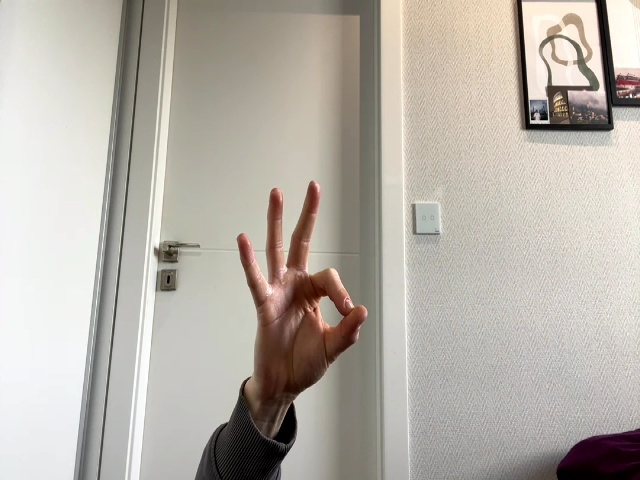O: (238, 181, 368, 404)
